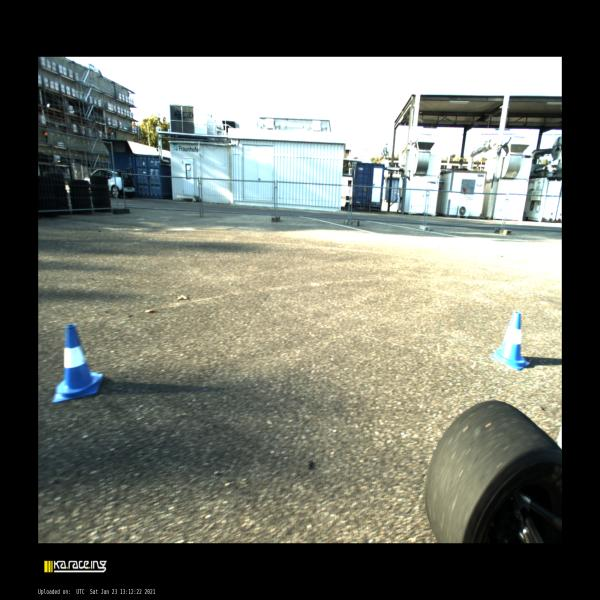blue_cone: (52, 324, 104, 403), (490, 312, 530, 370)
